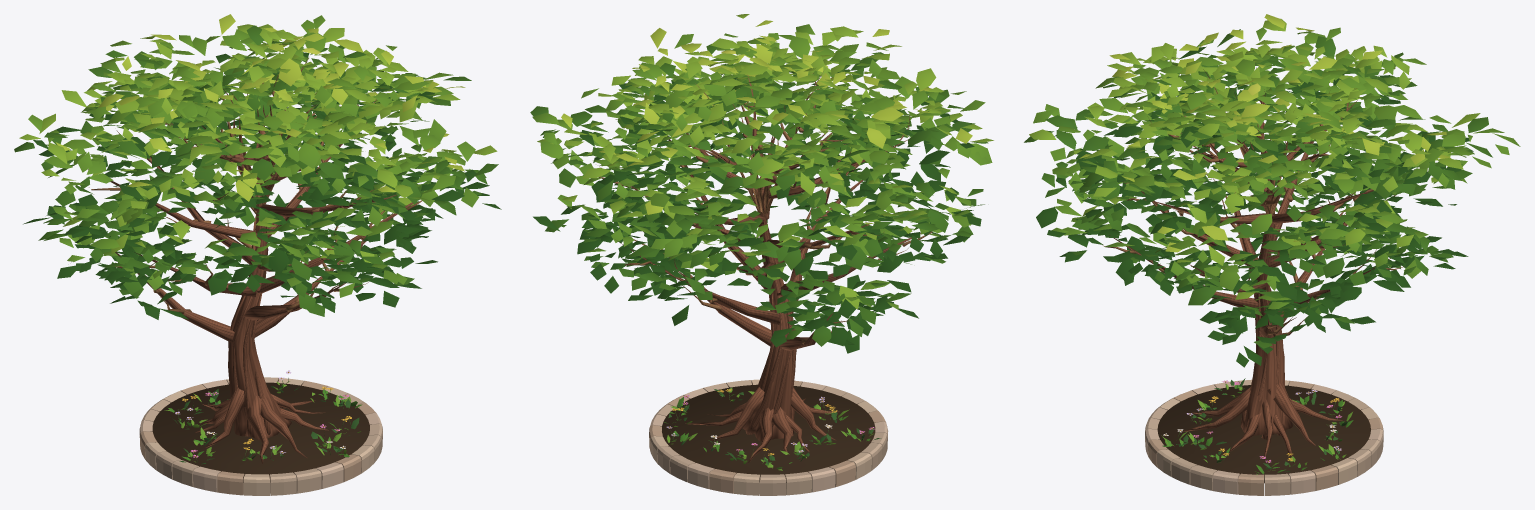
Rendered from tree-far.glb.
The picture shows the model from 3 angles, left to right: view 1: azimuth 30°, elevation 25°; view 2: azimuth 150°, elevation 25°; view 3: azimuth 270°, elevation 25°; orthographic projection.
Parts seen in each view (by area): view 1: Dense modeled canopy · pigment 1, Flared buttress root, Topsoil filled planter, Individually bevelled sandstone voussoir, Radial branch toward leaf tip, Broad-leaved groundcover; view 2: Dense modeled canopy · pigment 1, Topsoil filled planter, Flared buttress root, Individually bevelled sandstone voussoir, Radial branch toward leaf tip, Broad-leaved groundcover; view 3: Dense modeled canopy · pigment 1, Topsoil filled planter, Flared buttress root, Individually bevelled sandstone voussoir, Radial branch toward leaf tip, Broad-leaved groundcover.
Part boxes in pixels (<box>): Dense modeled canopy · pigment 1: <box>14,14,501,319</box>; Flared buttress root: <box>88,104,413,463</box>; Topsoil filled planter: <box>150,380,371,482</box>; Individually bevelled sandstone voussoir: <box>139,377,382,495</box>; Radial branch toward leaf tip: <box>89,58,422,313</box>; Broad-leaved groundcover: <box>164,381,362,464</box>; Dense modeled canopy · pigment 1: <box>530,14,993,353</box>; Topsoil filled planter: <box>660,382,875,482</box>; Flared buttress root: <box>599,106,920,462</box>; Individually bevelled sandstone voussoir: <box>649,379,888,495</box>; Radial branch toward leaf tip: <box>599,71,932,344</box>; Broad-leaved groundcover: <box>664,387,881,470</box>; Dense modeled canopy · pigment 1: <box>1024,14,1520,367</box>; Topsoil filled planter: <box>1157,385,1370,483</box>; Flared buttress root: <box>1109,95,1396,462</box>; Individually bevelled sandstone voussoir: <box>1145,379,1383,495</box>; Radial branch toward leaf tip: <box>1102,63,1404,336</box>; Broad-leaved groundcover: <box>1161,378,1353,474</box>.
Bounding box in the file's own units: 4.39 × 3.82 × 4.49.
Materials: 9 (2 with a texture image).
